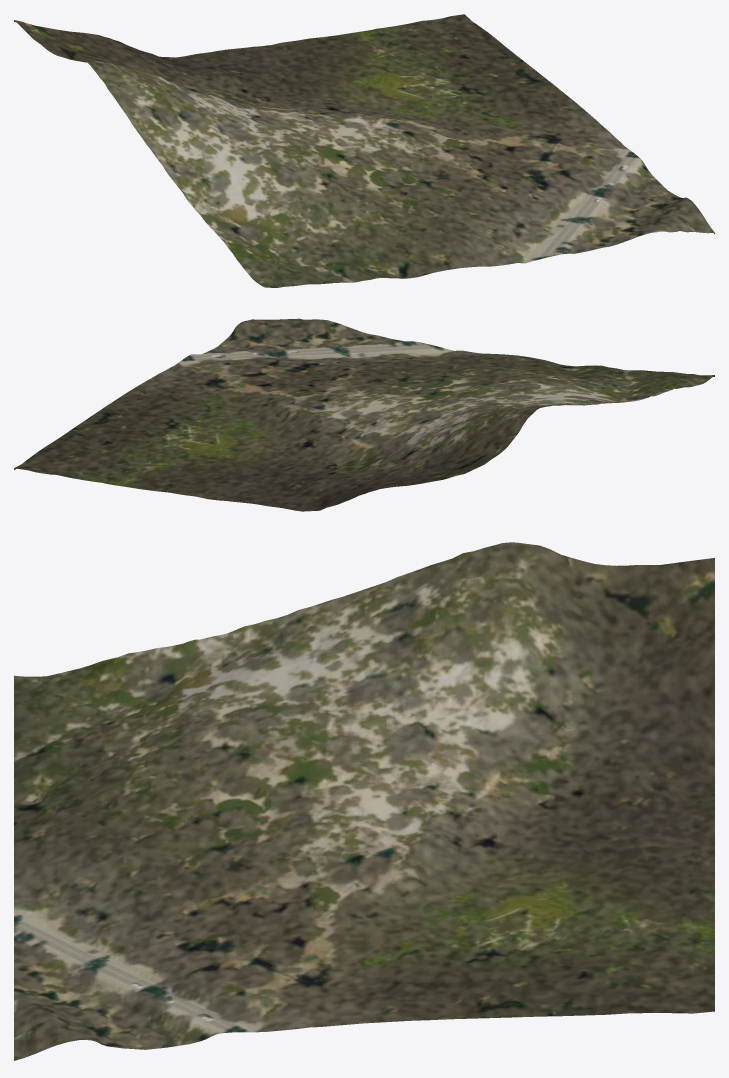
The picture shows the model from 3 angles, top to bottom: view 1: azimuth 30°, elevation 25°; view 2: azimuth 150°, elevation 25°; view 3: azimuth 270°, elevation 25°; orthographic projection. The views are drawn at different scales.
Bounding box in the file's own units: 250 × 80.92 × 241.
1 material, 1 textured.
